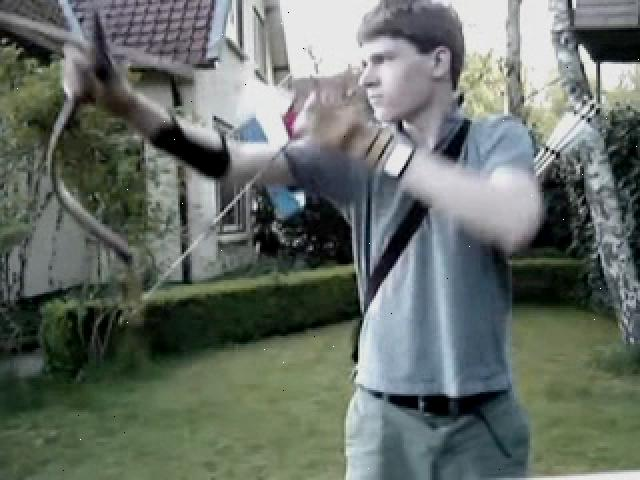P: (56, 3, 542, 474)
